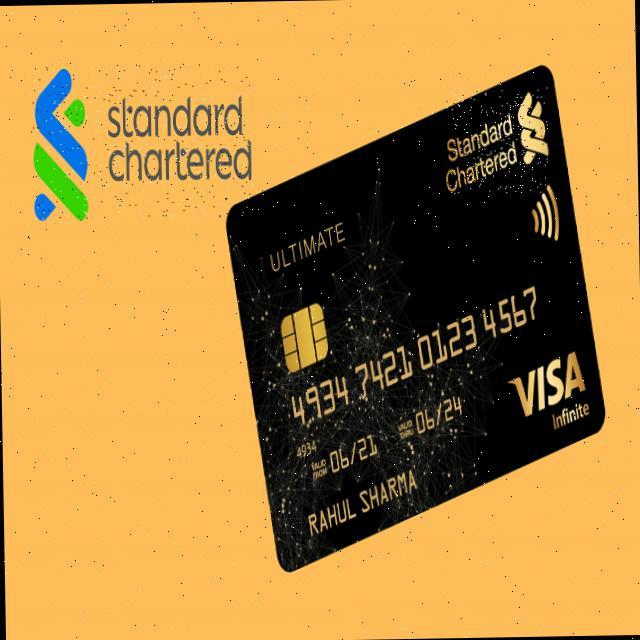Standard Chartered: (30, 62, 252, 223), (445, 87, 549, 195)
